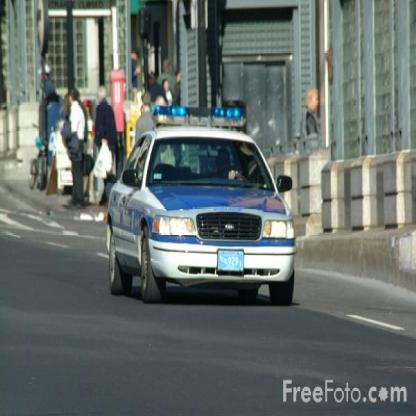car: (103, 98, 301, 319)
person: (61, 86, 92, 218)
